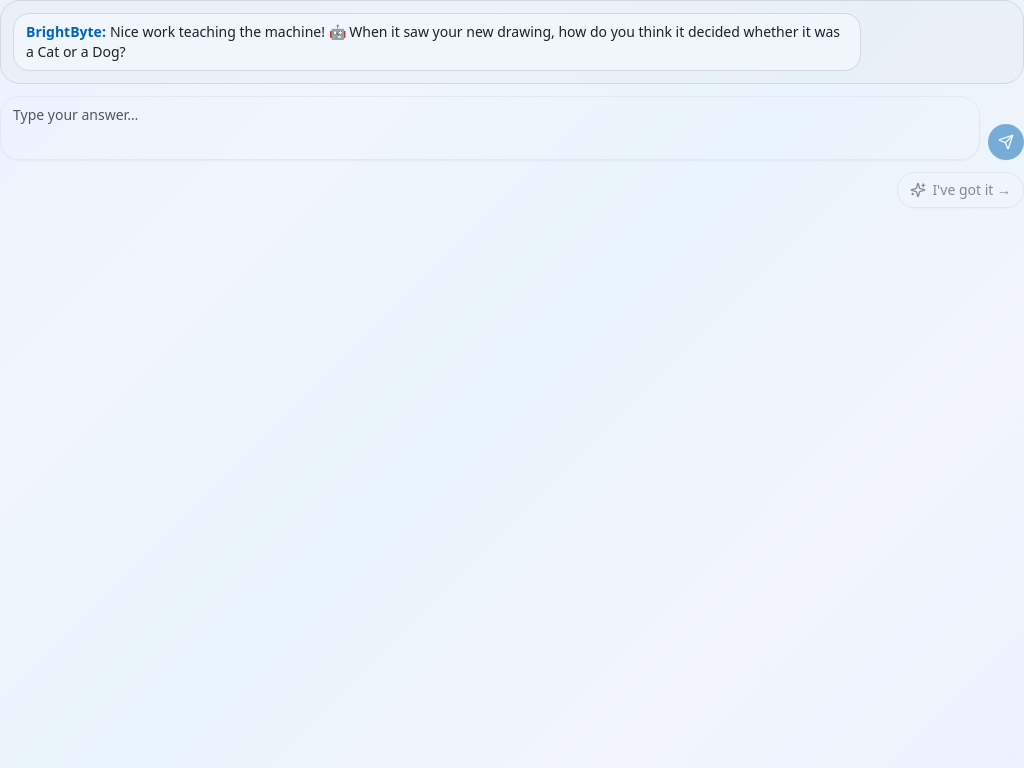
Test: ExplainDialogue › sends a reply, shows BrightByte's response, and scores on finish
The image size is (1024, 768).
Later steps or results of the test are not shown.
In the text box with placeholder "Type your answer…": (490,128) [0,96,980,160], type "it compared my drawing to the ones I taught it"
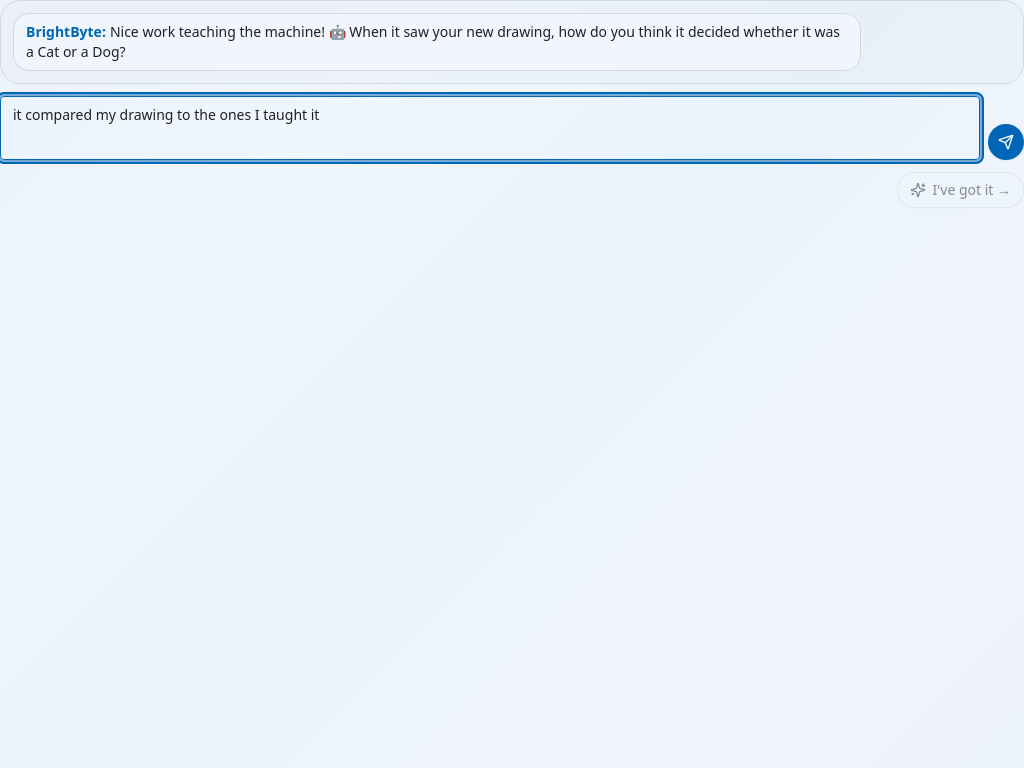
Click the button named "send message": (1006,142) [988,124,1023,160]
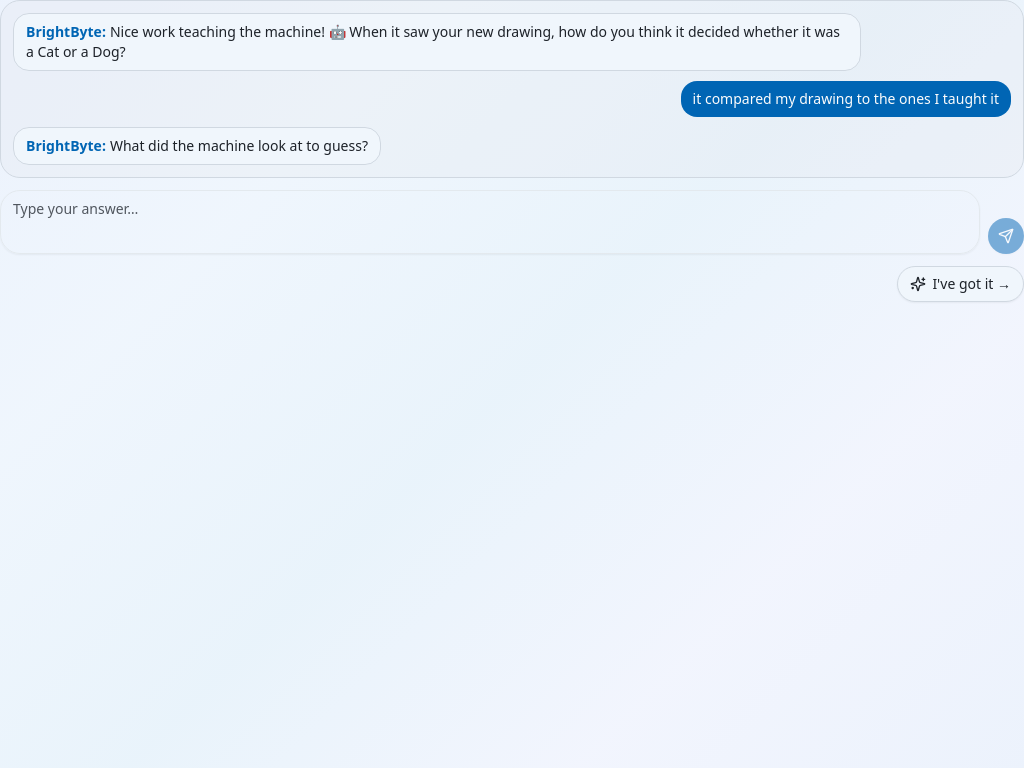
Check: the text "What did the machine look at to guess?" is shown, box [110,136,368,155]
